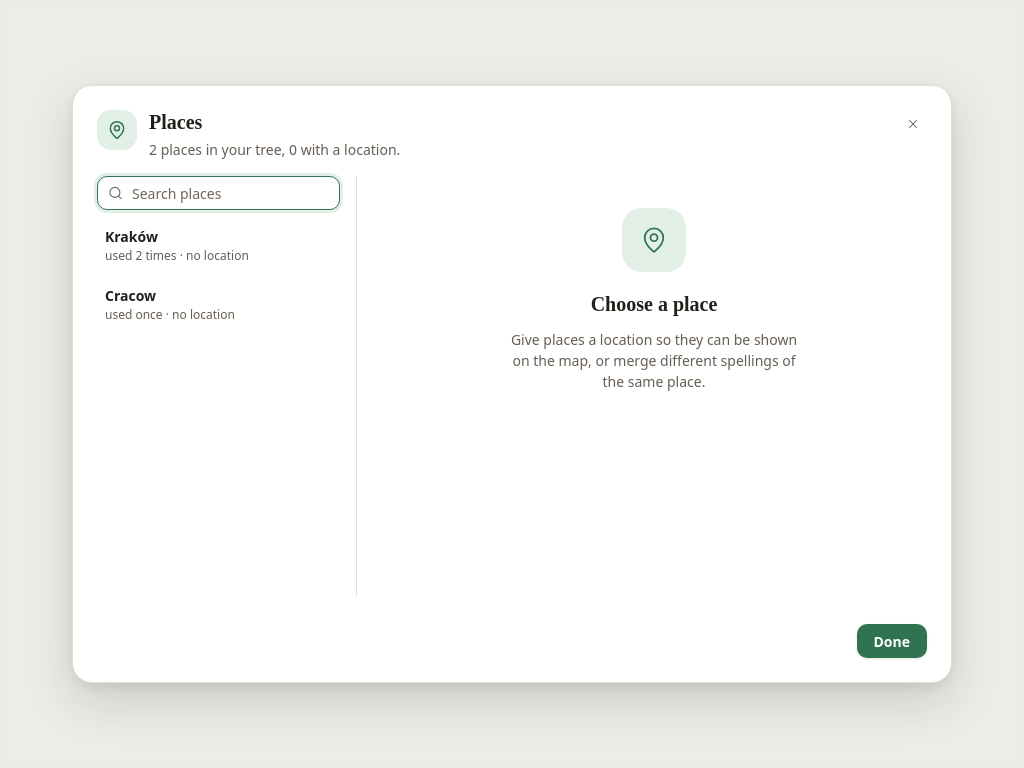
Test: PlacesDialog › lists places with usage and location status
The width and height of the screenshot is (1024, 768).
Expected: the text "2 places in your tree, 0 with a location." is shown, [149, 140, 400, 159]
Click the button "Kraków used 2 times · no location".
click(218, 246)  # box [97, 218, 340, 273]
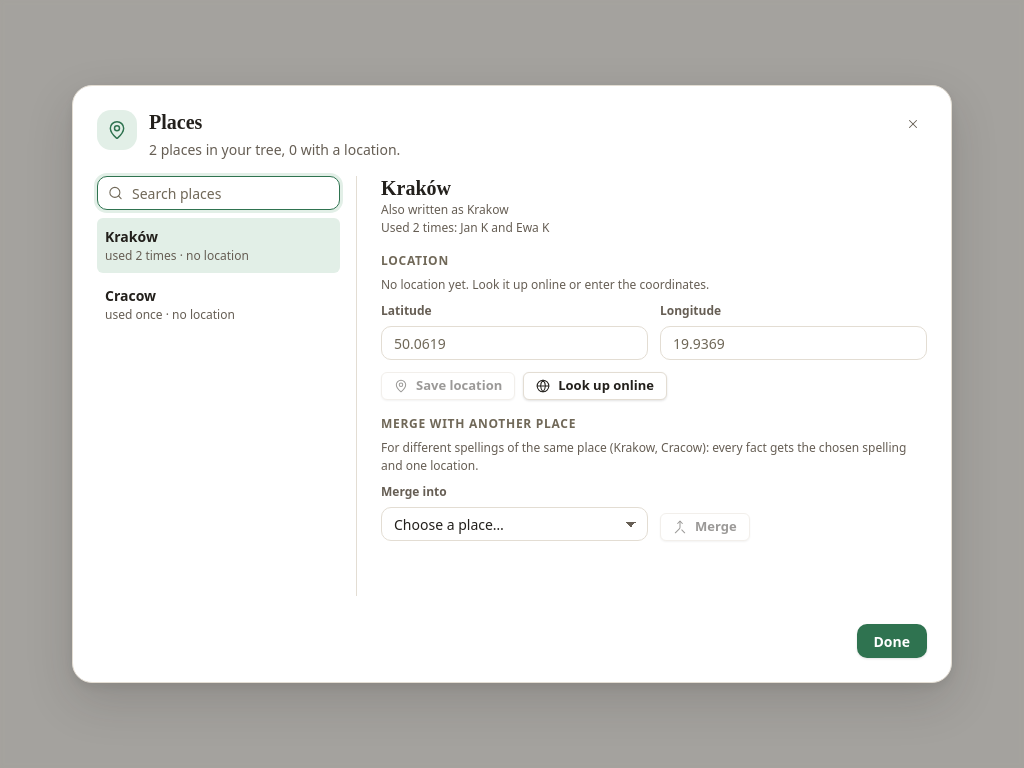
Expected: the text "Also written as Krakow" is shown, [381, 201, 509, 218]
Expected: the text "Used 2 times: Jan K and Ewa K" is shown, [381, 219, 549, 236]
